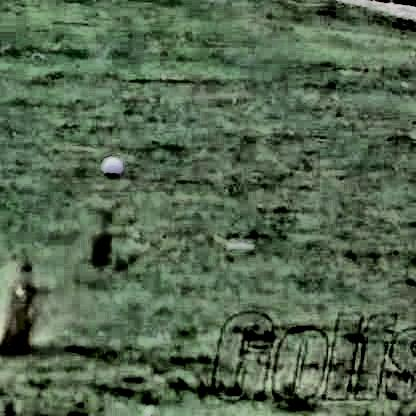golfball: (99, 154, 121, 176)
